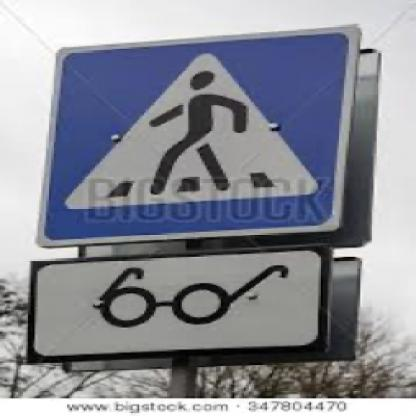crosswalk: (31, 24, 341, 245)
